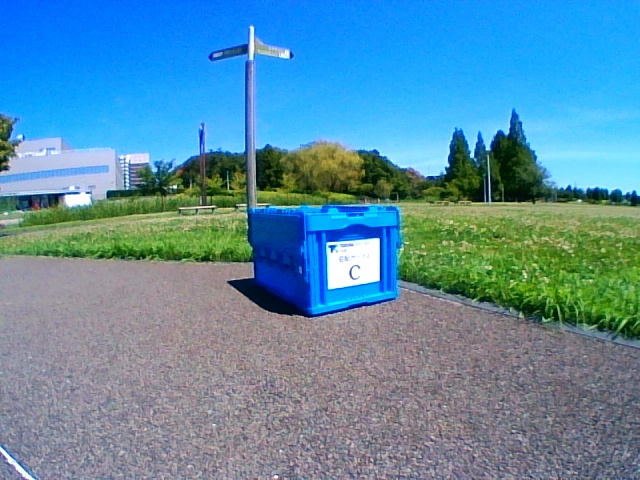blue_box: (248, 204, 400, 314)
tag_c: (331, 243, 378, 283)
